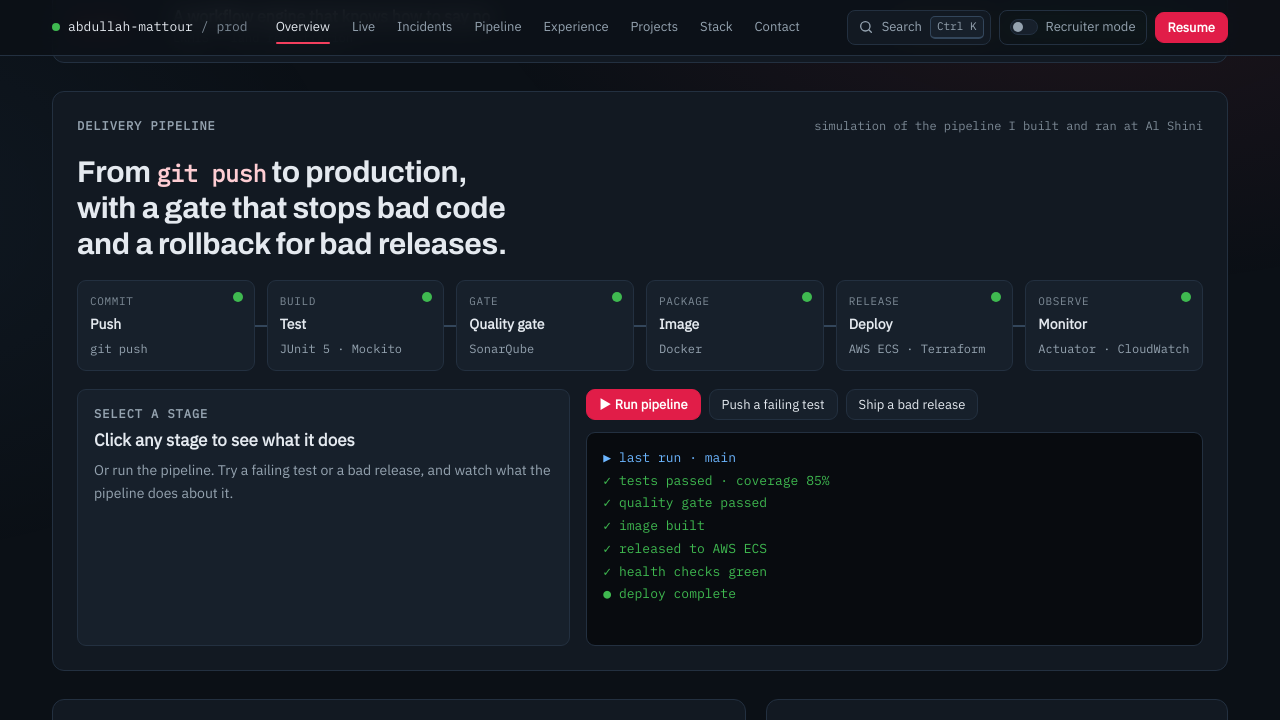
Test case: portfolio app › runs the failing-test scenario and stops before anything ships
(page scrolled)
Click the button "Push a failing test". click: (773, 404)
box: [709,389,838,420]
Wait 5000 ms
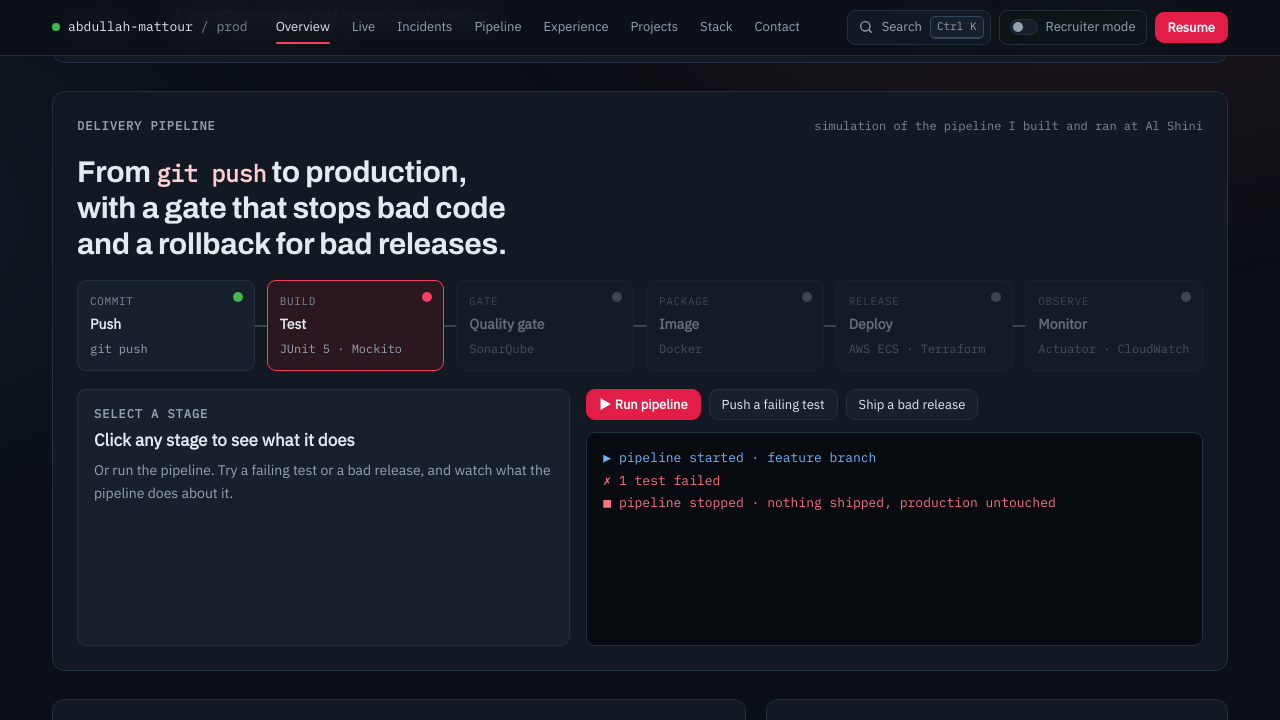
expect the text "■ pipeline stopped · nothing shipped, production untouched" is shown: met, box [603,494,1056,511]
